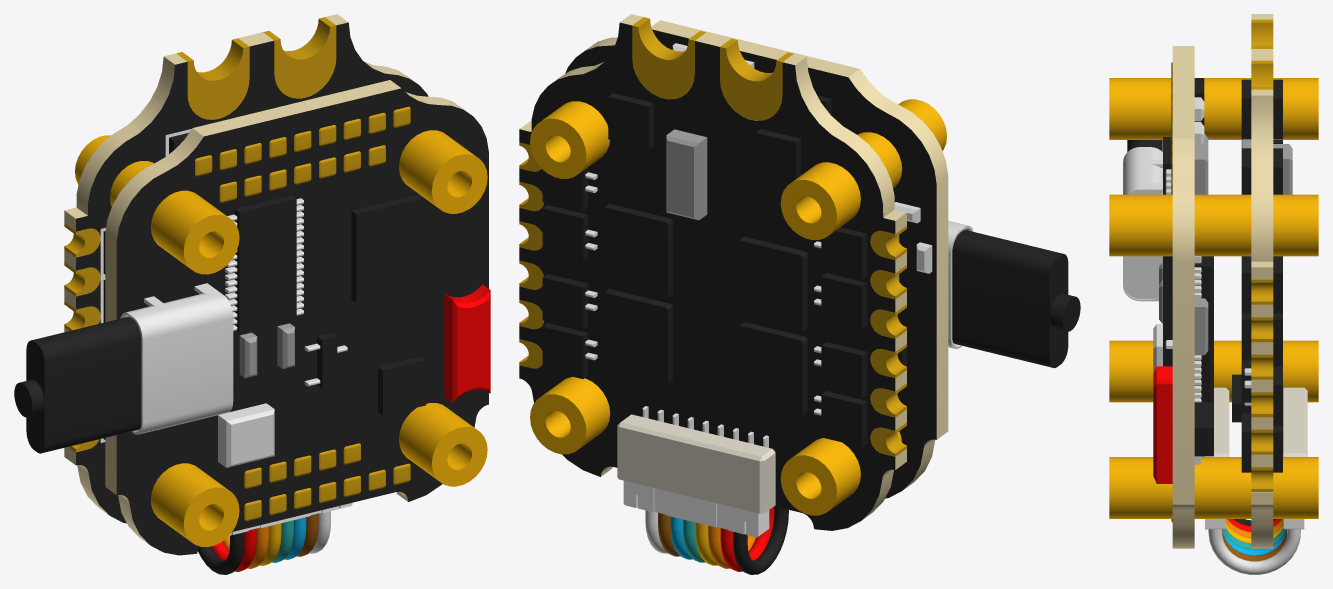
The model's file is speedybee_f405.glb.
3 renders of one model, left to right at view 1: azimuth 30°, elevation 25°; view 2: azimuth 150°, elevation 25°; view 3: azimuth 270°, elevation 25°, orthographic. The views are drawn at different scales.
Visible parts, largest first — view 1: id407; view 2: id407; view 3: id407.
Boxes of the visible parts, x1,y1,x2,y2 form: id407: (14,14,490,574); id407: (519,14,1080,574); id407: (1109,14,1318,574).
Size of the model in its own units: 0.0387 by 0.0399 by 0.0152.
